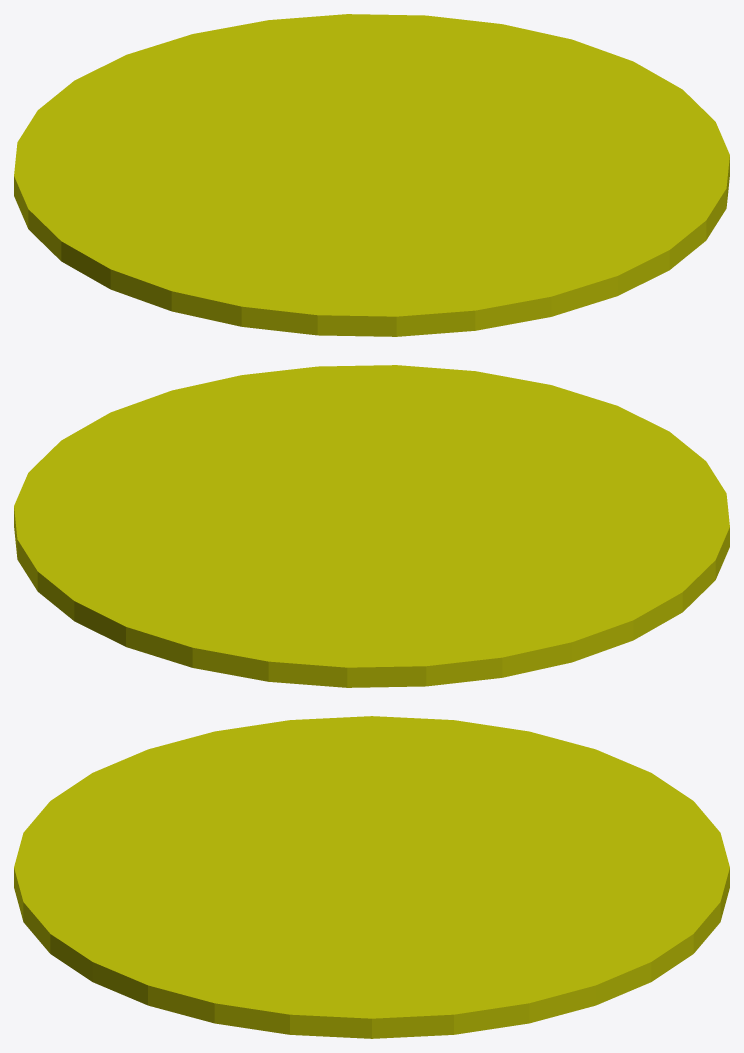
Rendered from pick up object.FBX.
The picture shows the model from 3 angles, top to bottom: view 1: azimuth 30°, elevation 25°; view 2: azimuth 150°, elevation 25°; view 3: azimuth 270°, elevation 25°; orthographic projection.
Visible parts, largest first — view 1: Circle001; view 2: Circle001; view 3: Circle001.
Boxes of the visible parts, x1,y1,x2,y2 form: Circle001: (14,14,729,336); Circle001: (14,365,729,687); Circle001: (14,716,729,1038).
Bounding box in the file's own units: 10.54 × 0.3281 × 10.54.
